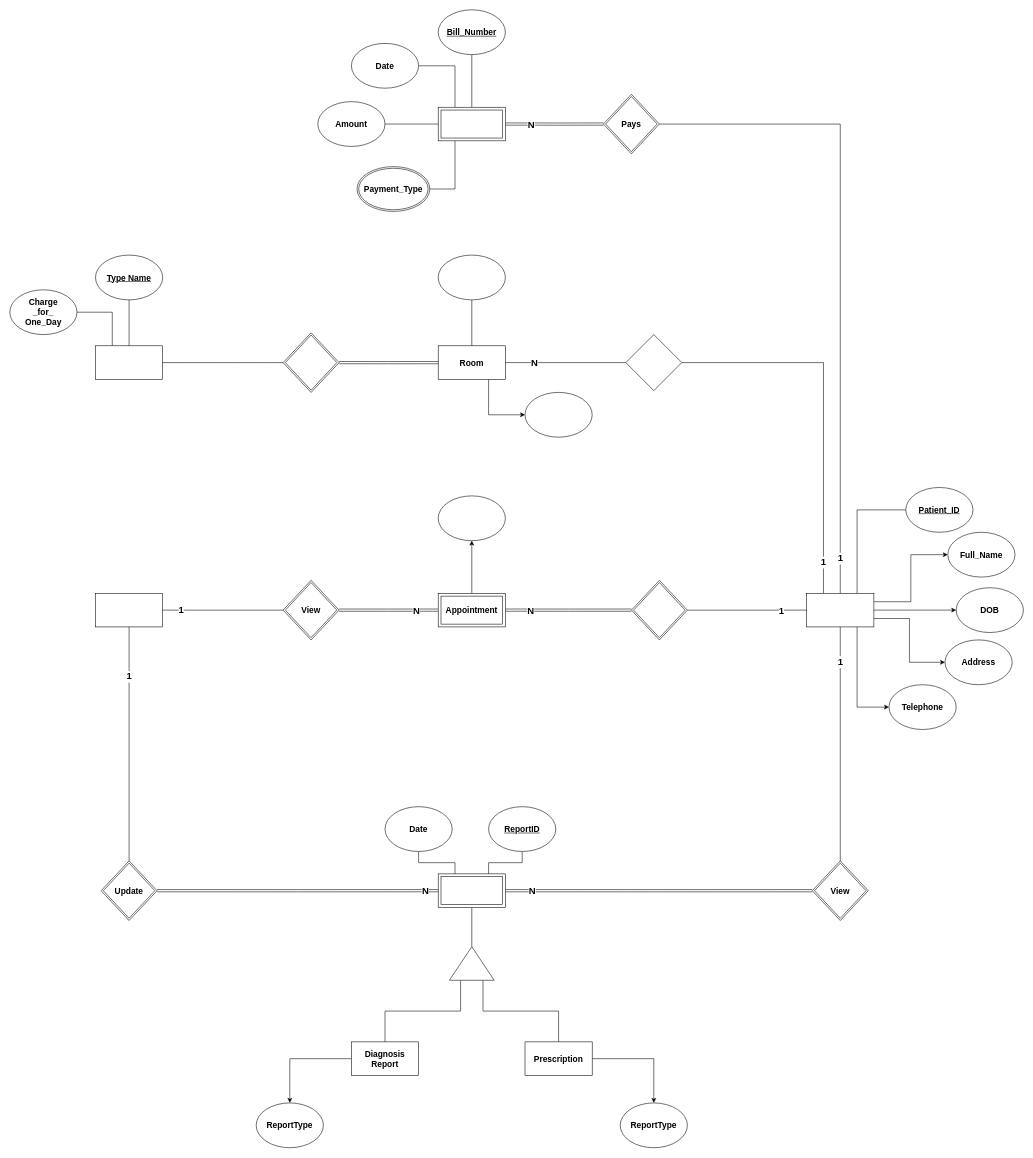
This 1033x1158 diagram has some shape labels left out. Each missing label, with the centre of its shape:
Appointment _ID: [471,518]
Availability: [558,414]
Bill: [471,124]
Choose: [653,362]
Doctor: [129,610]
Has: [311,362]
ISA: [471,963]
Patient: [840,610]
Place: [659,610]
Report: [471,890]
Room_Number: [471,277]
Room_Type: [129,362]
